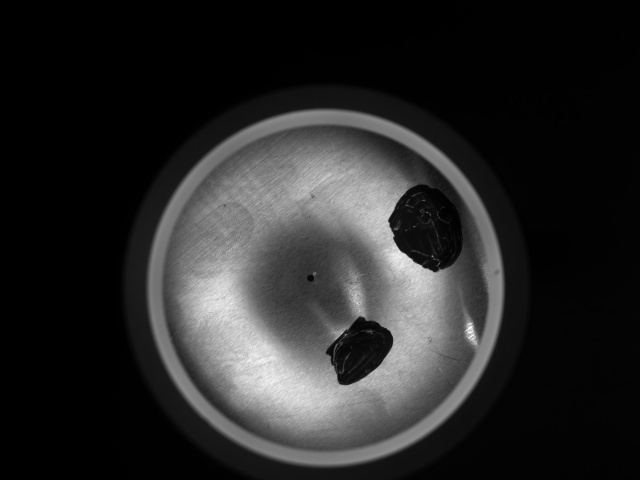zang_wu: (386, 185, 464, 272), (323, 316, 396, 387)
zhen_kong: (304, 269, 320, 284)
